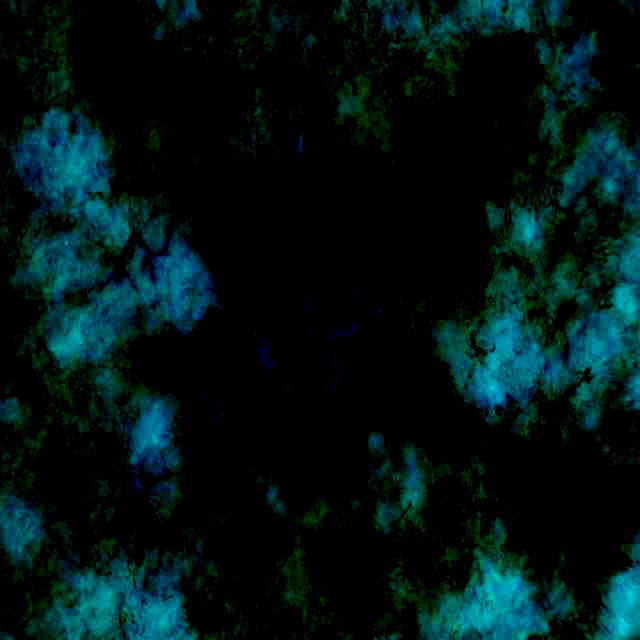AKIEC: (193, 111, 386, 436), (380, 36, 545, 319), (463, 397, 577, 548)
